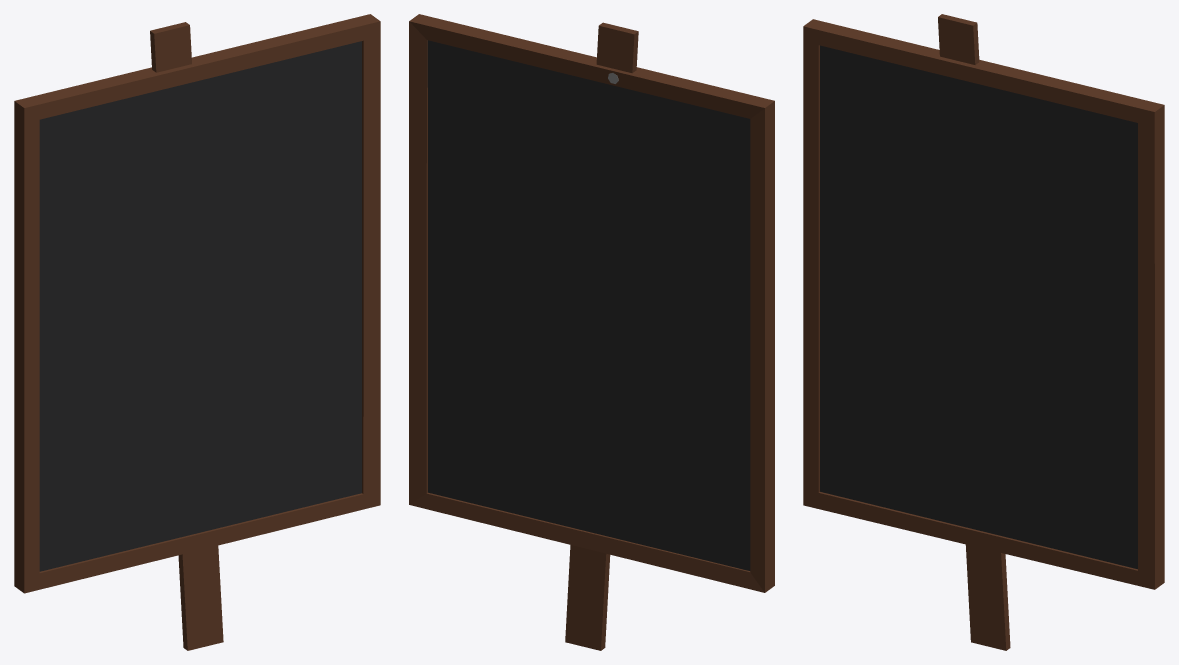
Rendered from panneauScore.glb.
3 views of the same model, side by side, from view 1: azimuth 30°, elevation 25°; view 2: azimuth 150°, elevation 25°; view 3: azimuth 330°, elevation 25° (orthographic).
Visible parts, largest first — view 1: peaneau contour; view 2: peaneau contour; view 3: peaneau contour.
Part boxes in pixels (box(x1,y1,x2,y2)): peaneau contour: box(14, 14, 380, 650); peaneau contour: box(409, 14, 774, 650); peaneau contour: box(803, 14, 1164, 650).
Size of what is drawn, in the model's own units: 3.58 by 6 by 0.1734.
1 material, 1 textured.
